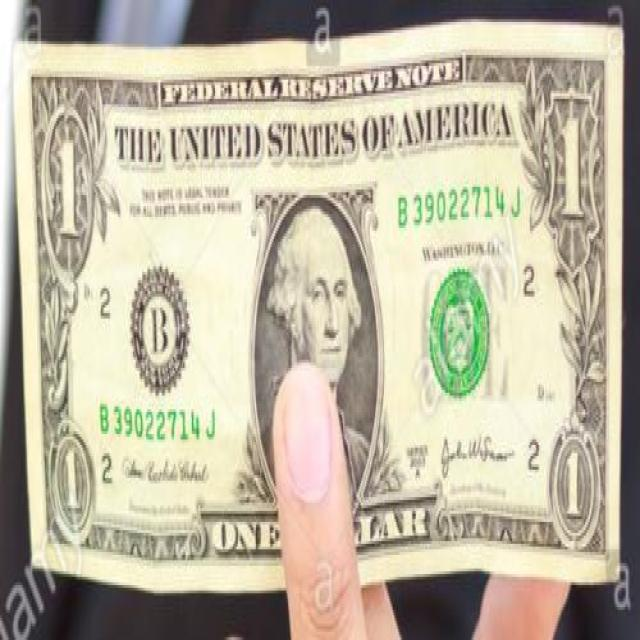1-Front: (14, 19, 626, 588)
